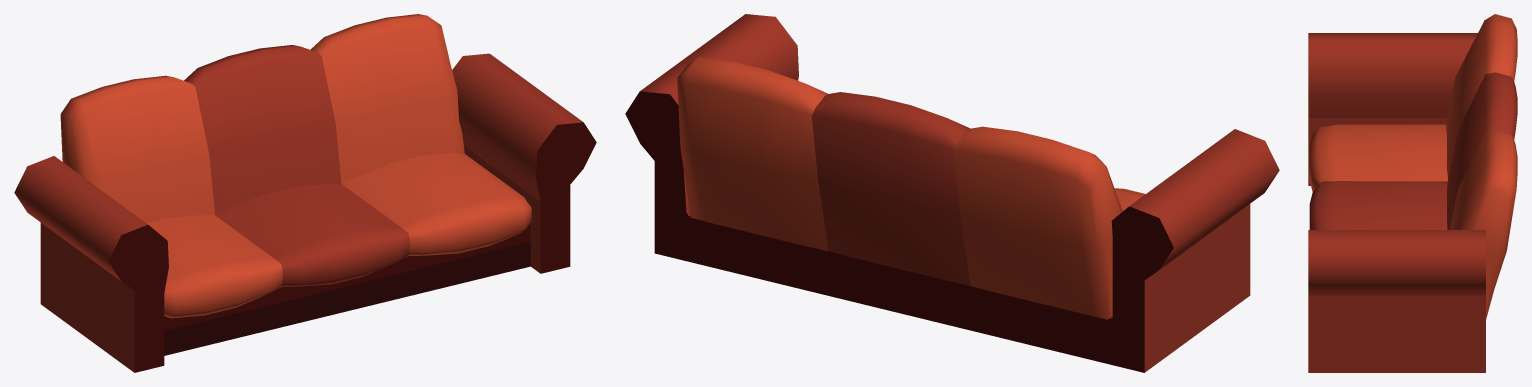
The model's file is Couch2.fbx.
3 views of the same model, side by side, from view 1: azimuth 30°, elevation 25°; view 2: azimuth 150°, elevation 25°; view 3: azimuth 270°, elevation 25° (orthographic). The views are drawn at different scales.
Visible parts, largest first — view 1: Sofa2; view 2: Sofa2; view 3: Sofa2.
Part boxes in pixels (x1,y1,x2,y2): Sofa2: [14, 14, 596, 372]; Sofa2: [625, 14, 1279, 372]; Sofa2: [1308, 14, 1517, 372].
Size of the model in its own units: 980 by 370 by 386.
